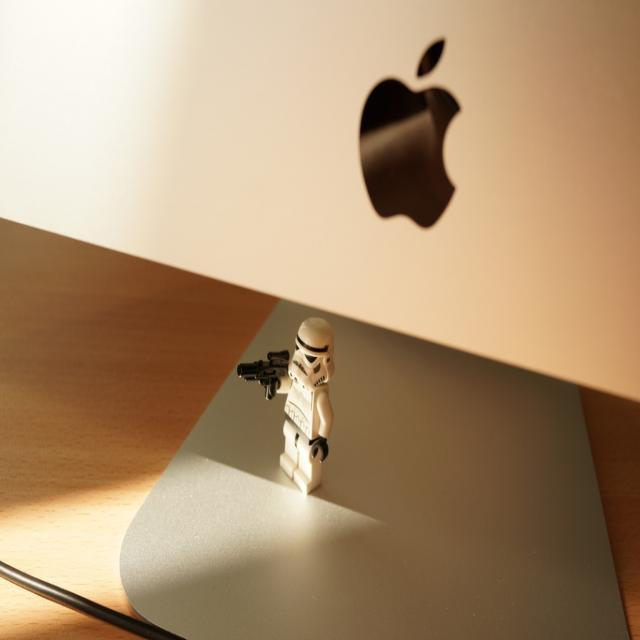weapon: (236, 349, 292, 401)
